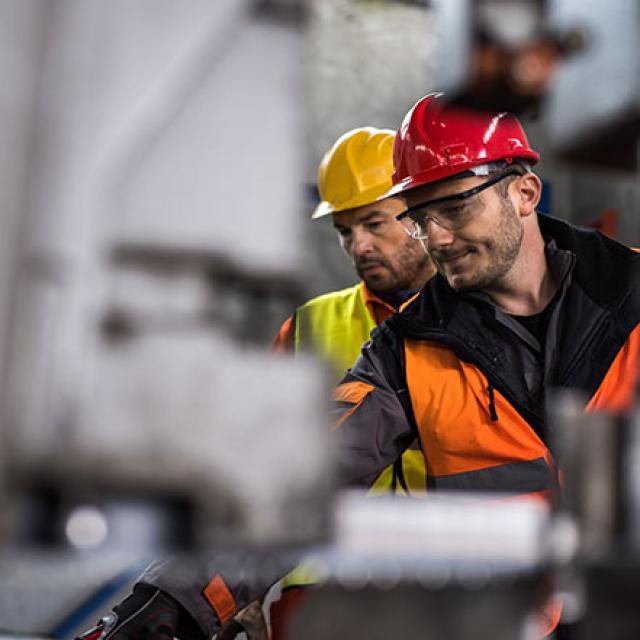Reflective-Jacket: (364, 264, 640, 505)
Safety-Helmet: (278, 270, 426, 430), (383, 89, 544, 204), (306, 123, 396, 224)
